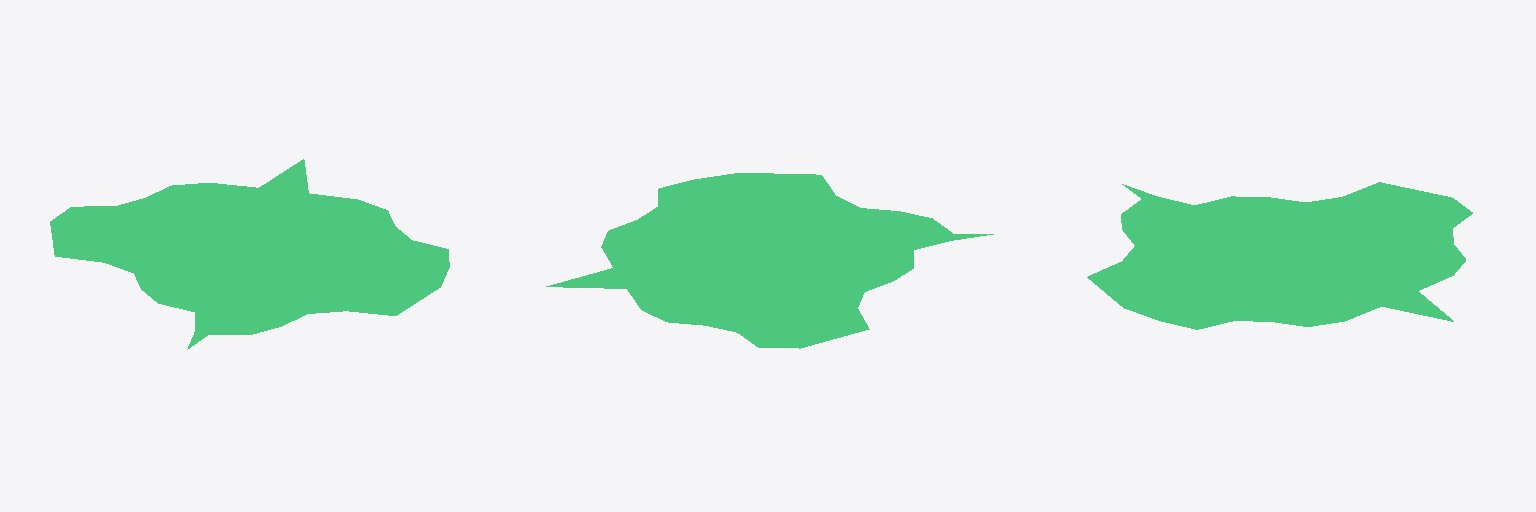
File: map2.obj
3 renders of one model, left to right at view 1: azimuth 30°, elevation 25°; view 2: azimuth 150°, elevation 25°; view 3: azimuth 270°, elevation 25°, orthographic.
Parts seen in each view (by area): view 1: Plane001; view 2: Plane001; view 3: Plane001.
Boxes of the visible parts, x1,y1,x2,y2 form: Plane001: [50, 159, 449, 349]; Plane001: [546, 173, 993, 348]; Plane001: [1087, 182, 1472, 329].
Size of the model in its own units: 998 by 0 by 1104.